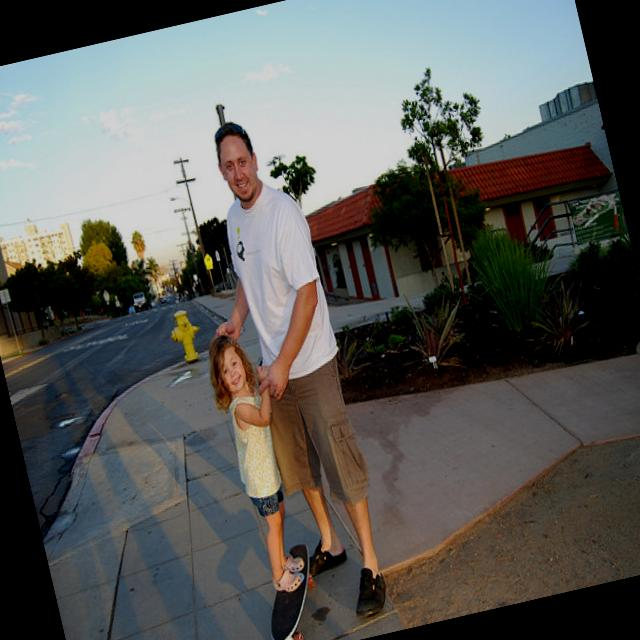Vehicle: (130, 290, 150, 312)
